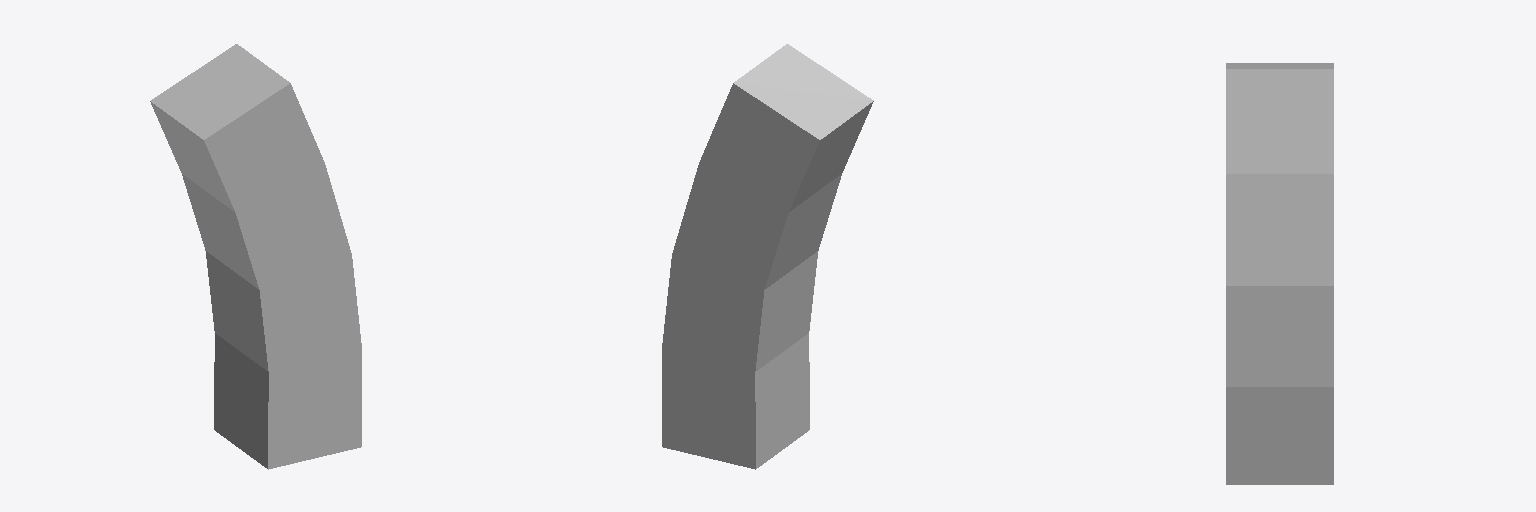
Rendered from Animation_000075.obj.
3 renders of one model, left to right at view 1: azimuth 30°, elevation 25°; view 2: azimuth 150°, elevation 25°; view 3: azimuth 270°, elevation 25°, orthographic.
Visible parts, largest first — view 1: Cube; view 2: Cube; view 3: Cube.
Part boxes in pixels (x1,y1,x2,y2): Cube: (150,44,361,469); Cube: (662,44,873,469); Cube: (1226,63,1333,484).
Bounding box in the file's own units: 2.25 × 5.19 × 1.33.